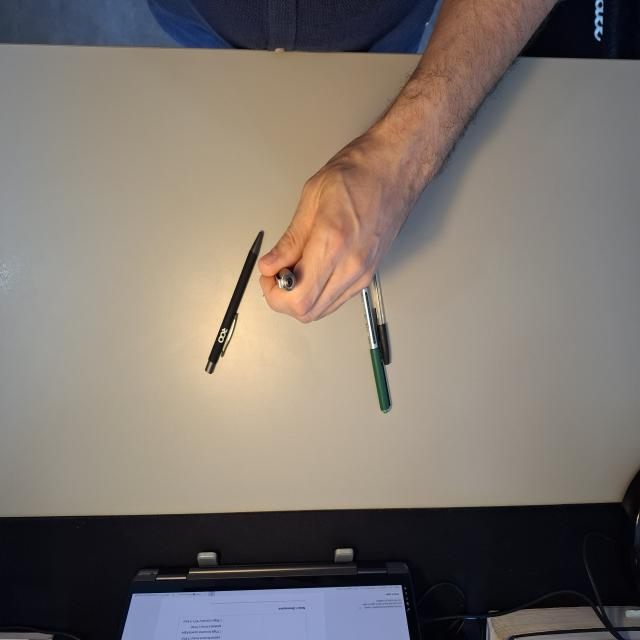glove_off: (257, 125, 417, 325)
